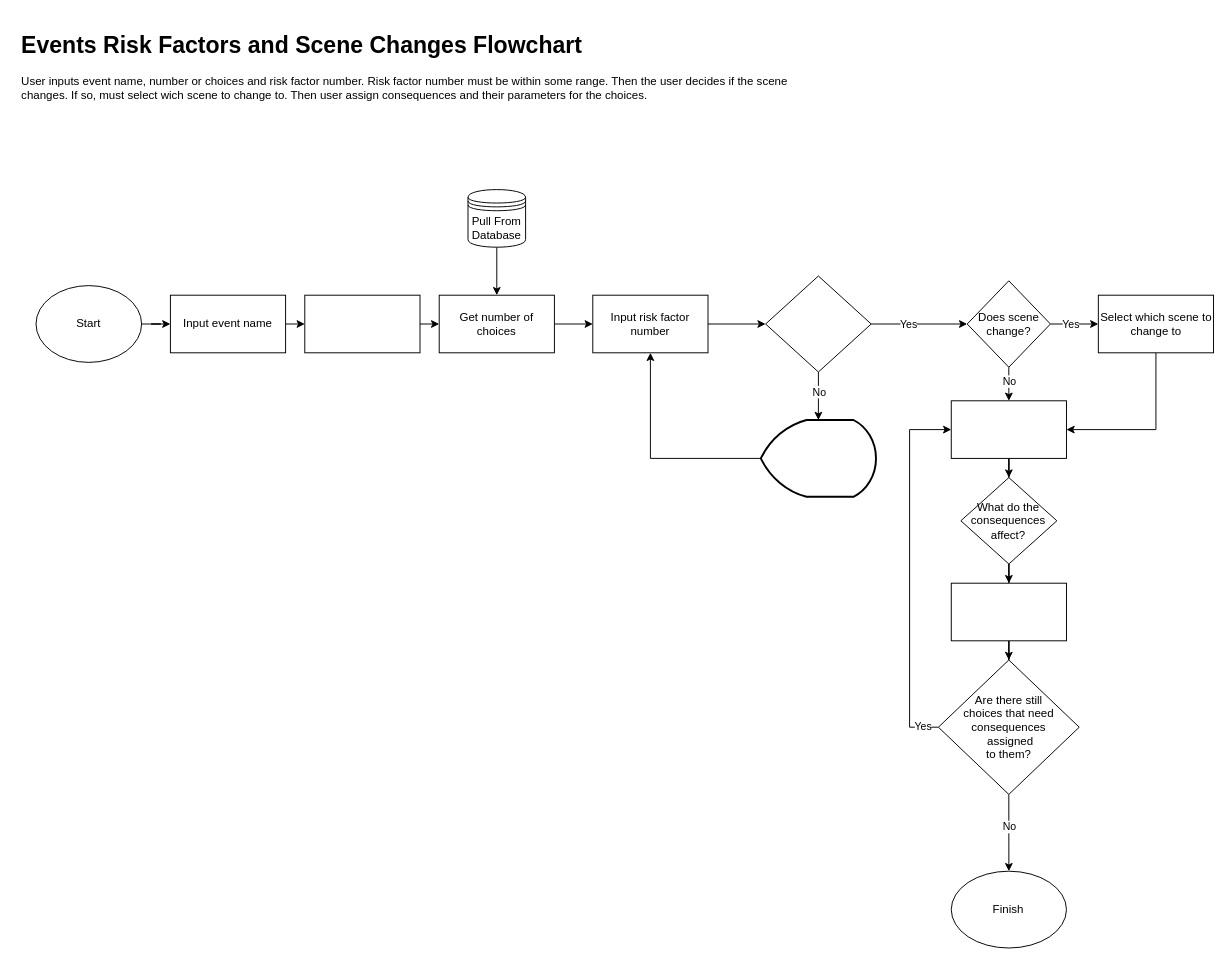
Some shapes in this 1231 by 965 pixel diagram are drawn without their labels. Here are the shapes that lost their labels. From the top down, the centre of each, then its label:
At point (362, 323): "Auto Populate ID / Primary Key".
At point (818, 323): "Is risk factor number within range?".
At point (1008, 429): "Select which choice to assign consequences to".
At point (817, 458): "Show message saying number must be within range".
At point (1008, 611): "Choose parameters of the consequence".
